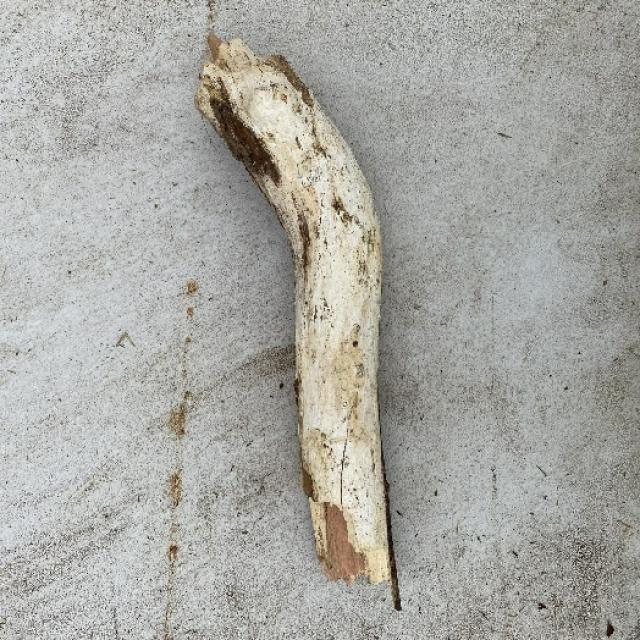organik: (192, 50, 430, 590)
